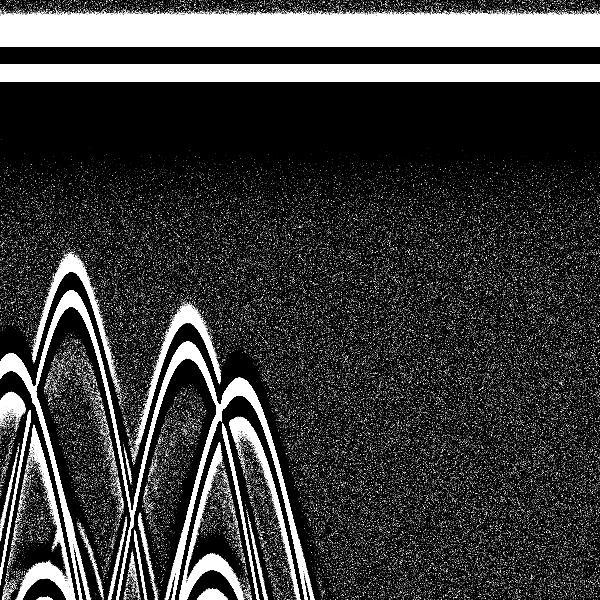pipe: (194, 6, 287, 452), (145, 4, 228, 396), (32, 6, 115, 343), (1, 5, 54, 430)
